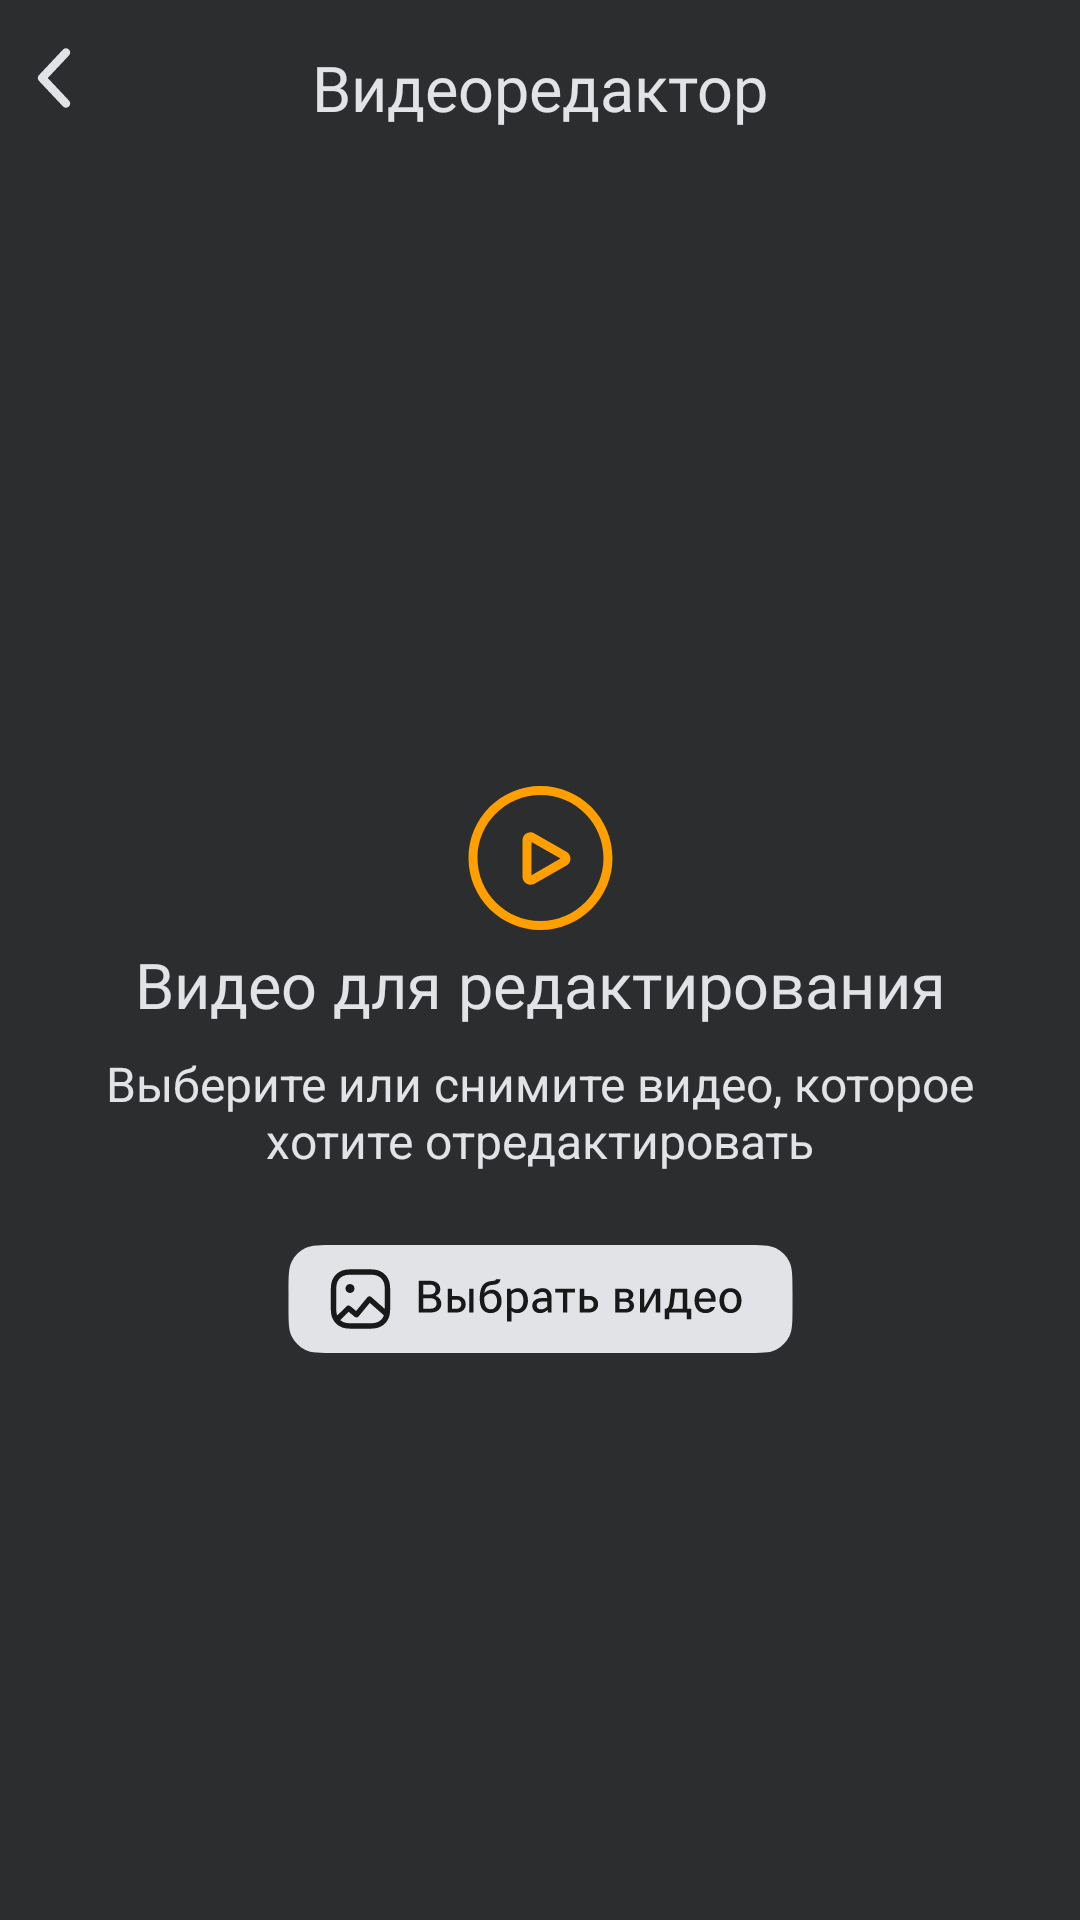

Icons on this 1080×1920 Android screen, each with the point to tap as (x=x, y=y):
bar back nav: (x=54, y=78)
fragment video: (x=540, y=858)
